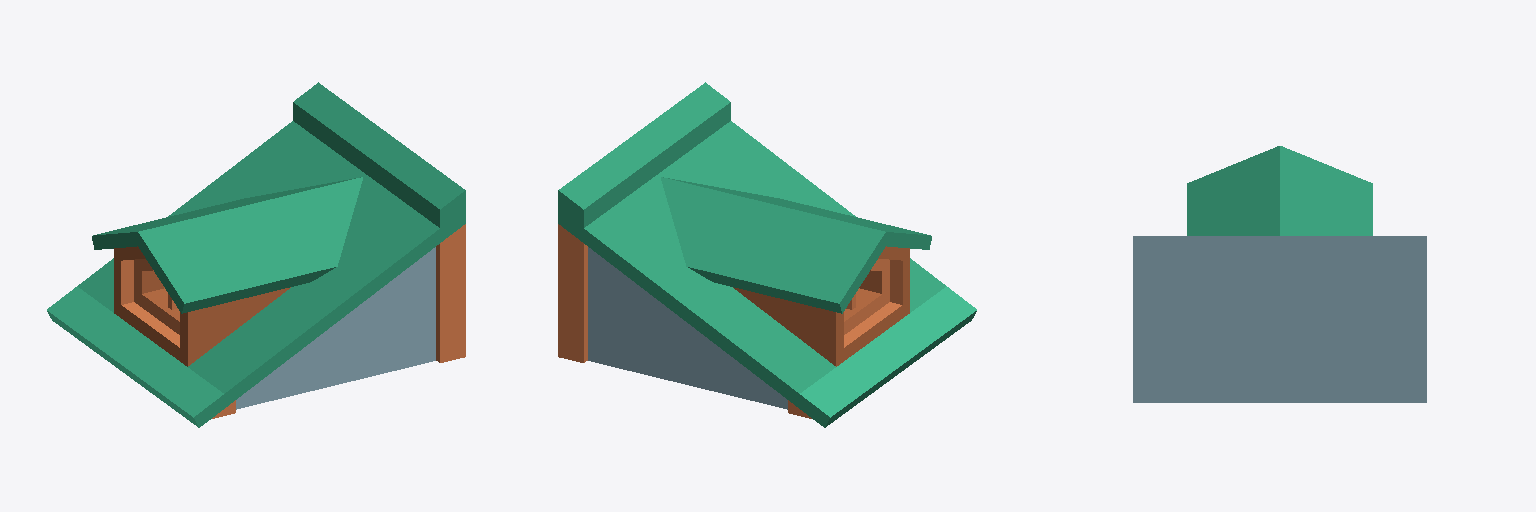
Rendered from roofWindow.obj.
The picture shows the model from 3 angles: view 1: azimuth 30°, elevation 25°; view 2: azimuth 150°, elevation 25°; view 3: azimuth 270°, elevation 25°; orthographic projection.
Parts seen in each view (by area): view 1: roofWindow; view 2: roofWindow; view 3: roofWindow.
Boxes of the visible parts, box(x1,y1,x2,y2) form: roofWindow: box(47, 82, 465, 427); roofWindow: box(558, 82, 976, 427); roofWindow: box(1133, 146, 1426, 402).
Bounding box in the file's own units: 1.07 × 0.6483 × 1.